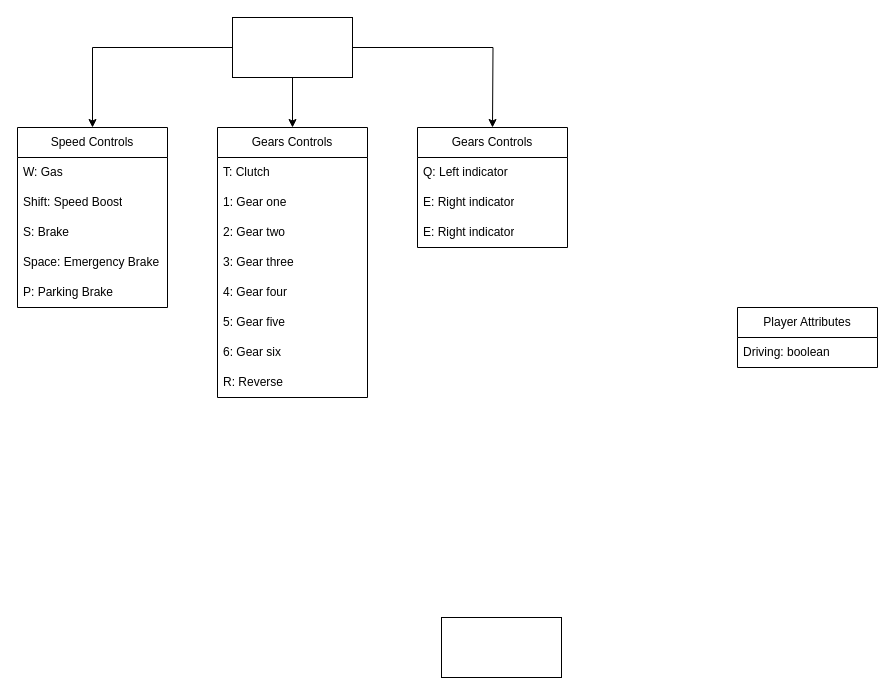
Image size: 895x695. Some labels were removed from this diagram. Here are the shapes that lost their labels. From the top down, the centre of each, then its label:
At point (292, 47): "Controls".
At point (501, 647): "InputController".
